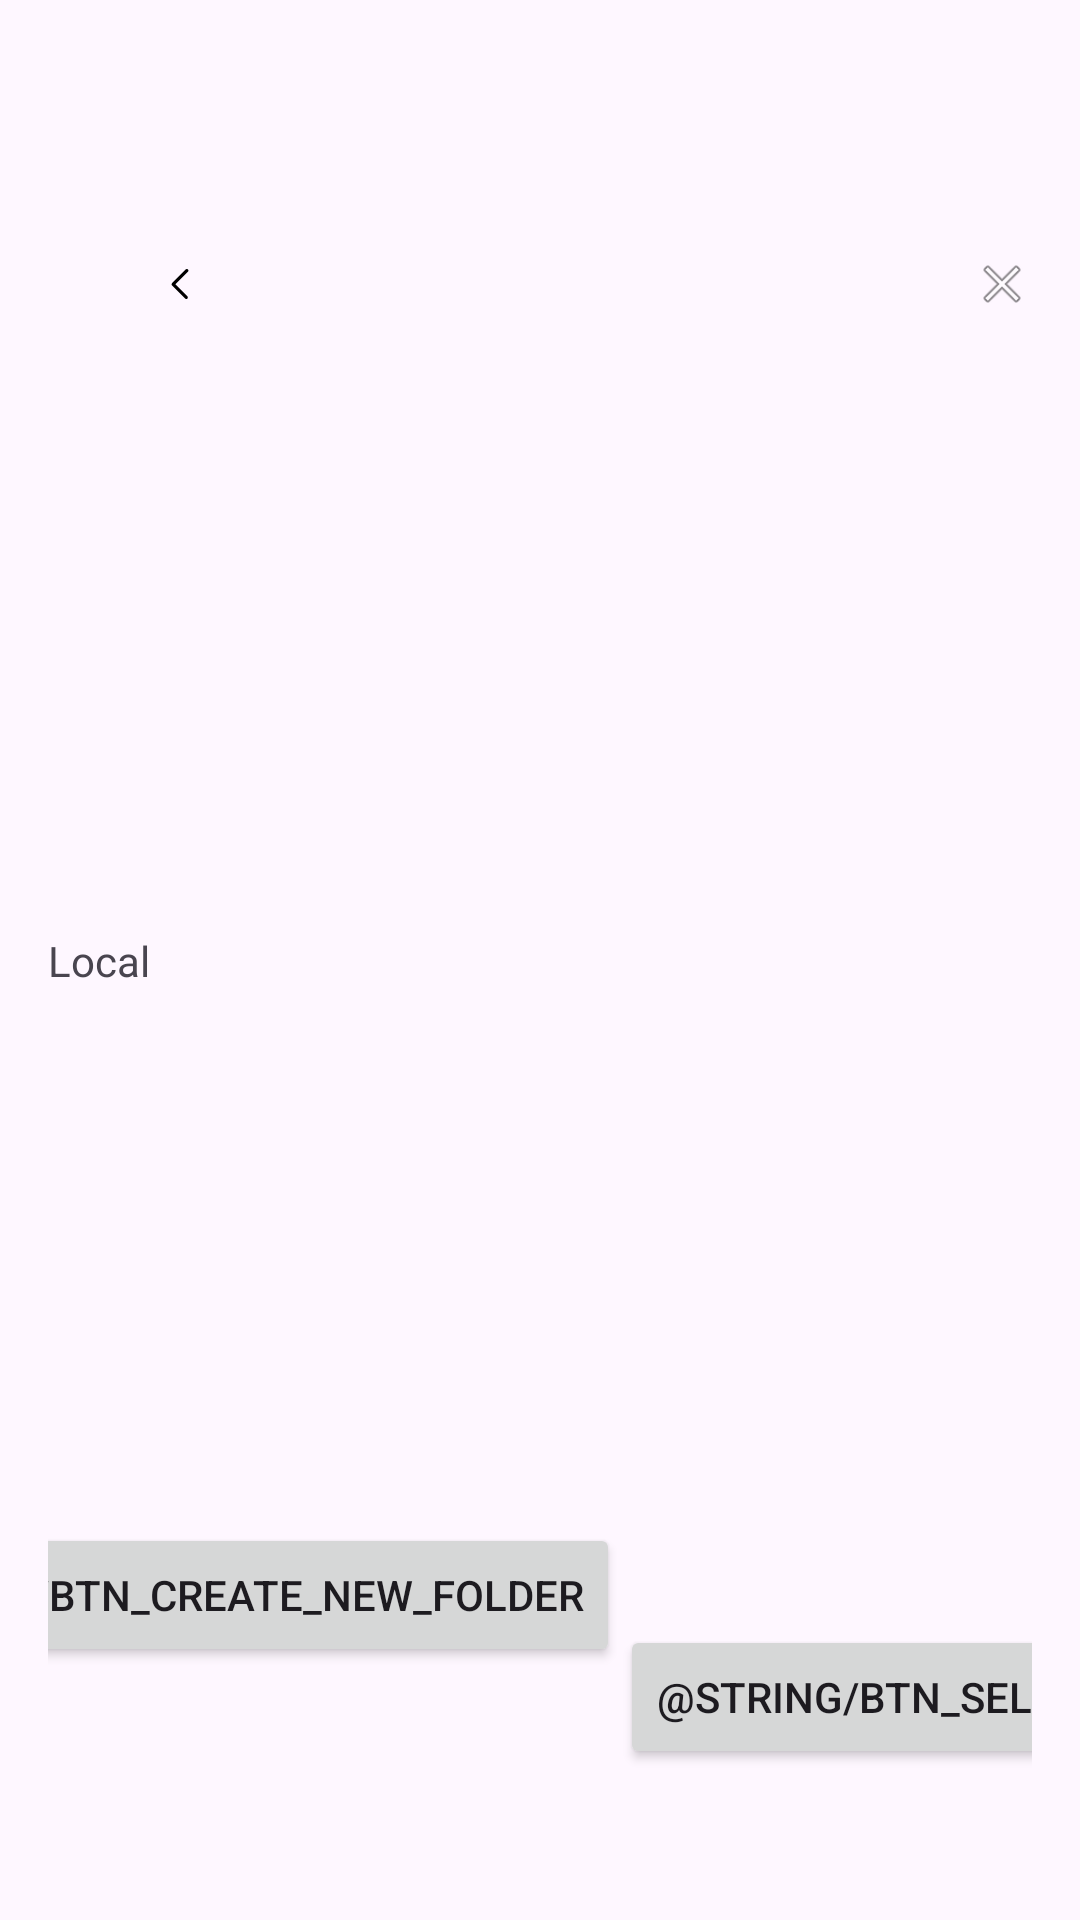

Icons on this 1080 × 1920 Android screen, each with its box as (x1, y1, x2, y2):
back: (171, 269, 189, 299)
close clear cancel: (983, 265, 1021, 303)
